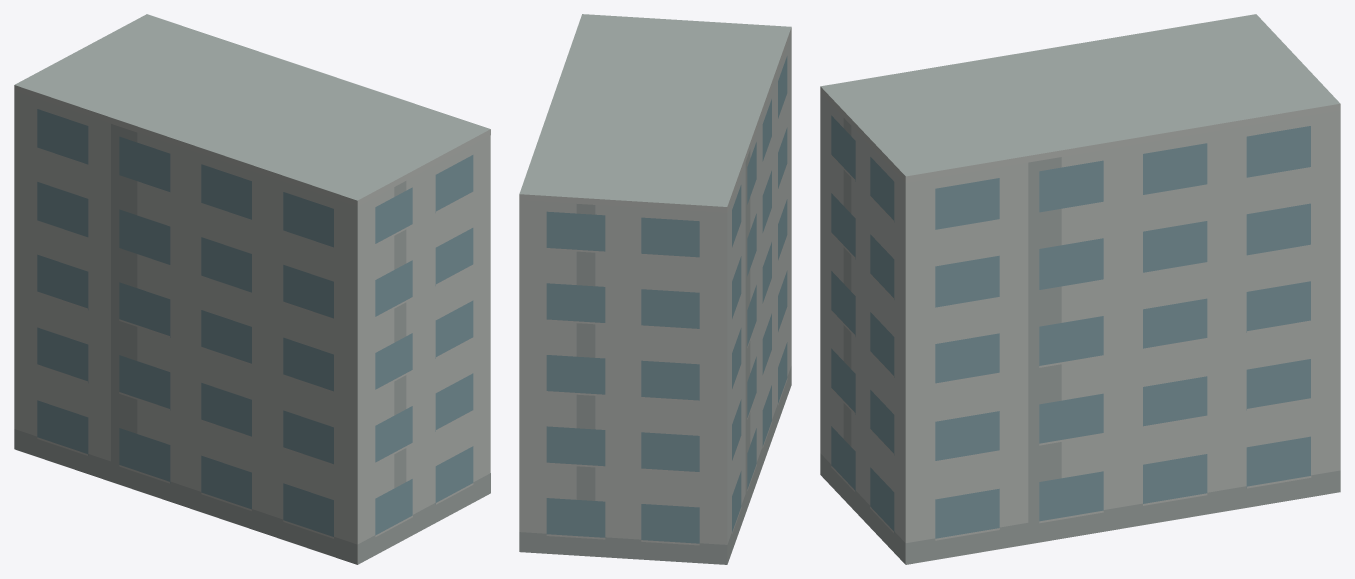
The model's file is survey-upis-32888779.glb.
3 renders of one model, left to right at view 1: azimuth 30°, elevation 25°; view 2: azimuth 150°, elevation 25°; view 3: azimuth 270°, elevation 25°, orthographic. The views are drawn at different scales.
Visible parts, largest first — view 1: survey-upis-32888779.tmp; view 2: survey-upis-32888779.tmp; view 3: survey-upis-32888779.tmp.
Part boxes in pixels (x1,y1,x2,y2): survey-upis-32888779.tmp: (14, 14, 490, 564); survey-upis-32888779.tmp: (519, 14, 791, 564); survey-upis-32888779.tmp: (820, 14, 1340, 564).
Bounding box in the file's own units: 12.83 × 14.3 × 17.36.
